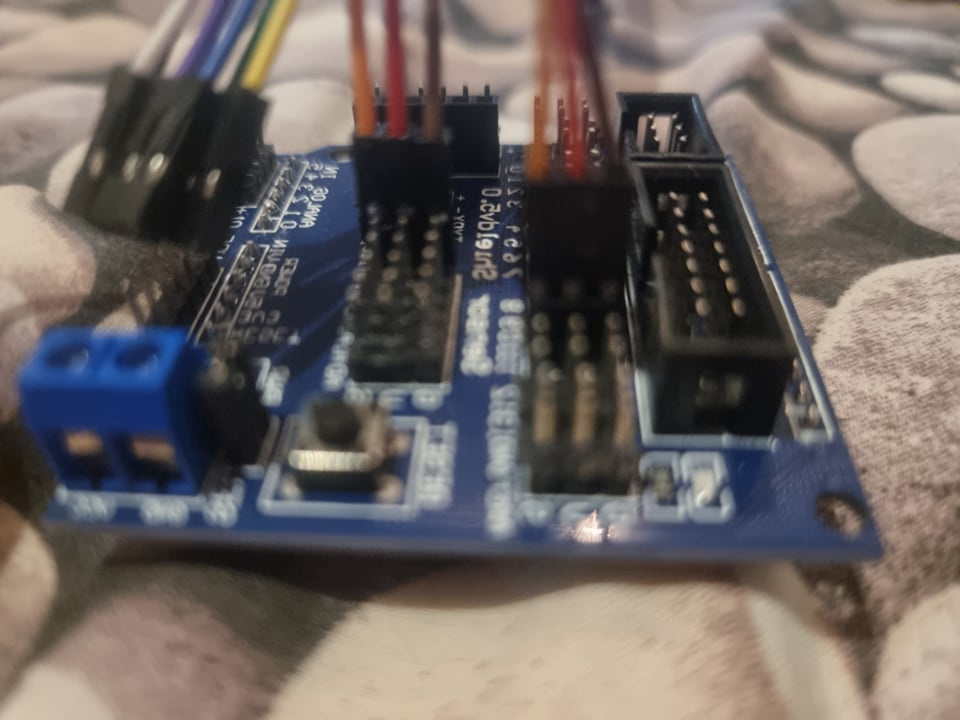5V EXPANSION: (12, 38, 884, 553)
